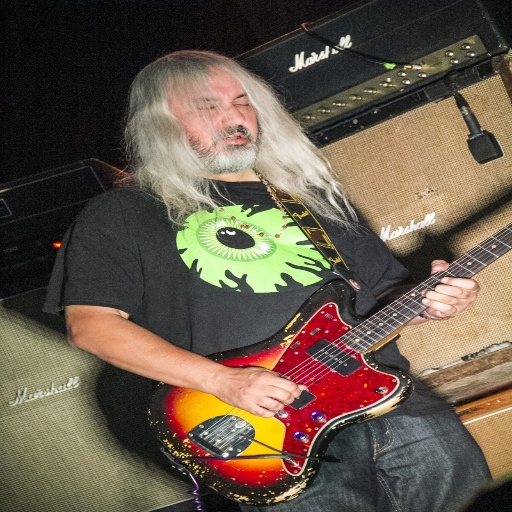hand: (215, 366, 301, 418), (420, 258, 482, 323)
